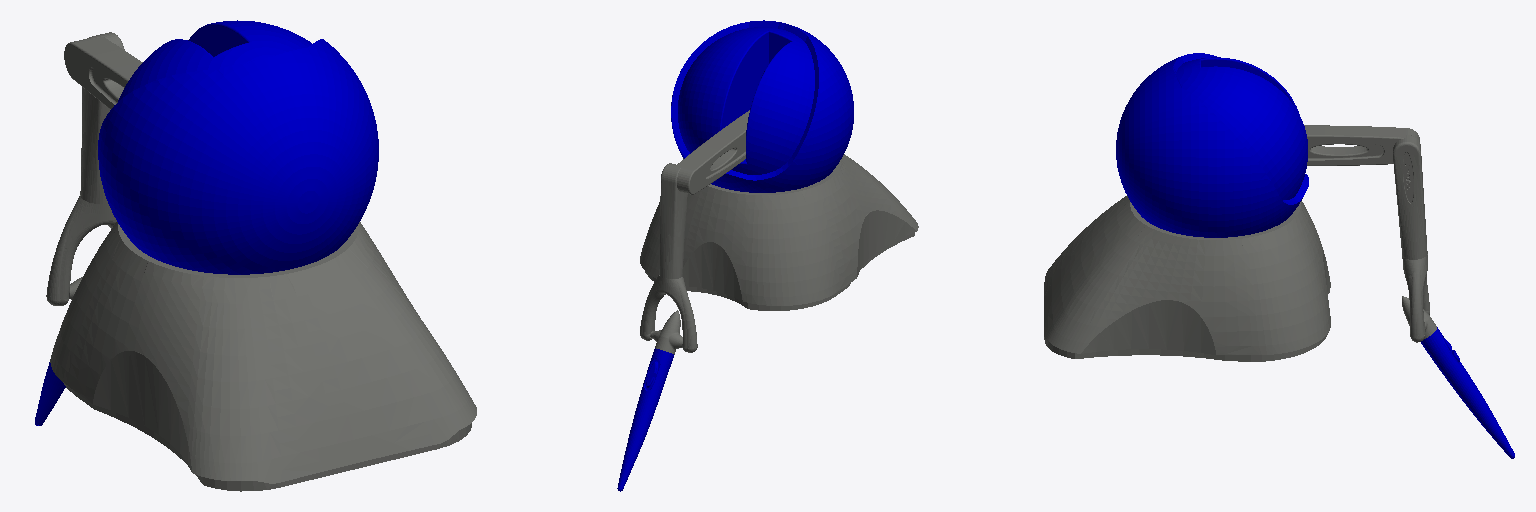
URDF robot description (phantom_omni):
<?xml version="1.0" encoding="utf-8"?>
<robot name="phantom_omni" xmlns:xacro="http://www.ros.org/wiki/xacro">
	
	<!-- Materials -->
	<material name="metal_seamed">
		<color rgba="0.4627450980392157 0.4666666666666667 0.4509803921568628 1.0" />
	</material>
	<material name="blue">
		<color rgba="0.0 0.0 0.8 1.0" />
	</material>
	<material name="white">
		<color rgba="1.0 1.0 1.0 1.0" />
	</material>
	
	<!-- Links -->
  <link name="base" >
    <visual>
			<origin xyz="0 -0.02 0" />
      <geometry>
				<mesh filename="package://omni_description/meshes/base.stl" />
      </geometry>
      <material name="metal_seamed"/>
    </visual>
  </link>
  <link name="torso" >
    <visual>
			<origin xyz="0 0 0.036" rpy="-1.5707 0 0"/>
      <geometry>
				<mesh filename="package://omni_description/meshes/torso.stl" />
      </geometry>
      <material name="blue"/>
    </visual>
  </link>
  <link name="upper_arm" >
		<visual>
			<origin xyz="0.0075 0 0" rpy="0 0 0"/>
      <geometry>
				<mesh filename="package://omni_description/meshes/upper_arm.stl" />
      </geometry>
      <material name="metal_seamed" />
    </visual>
  </link>
  <link name="lower_arm" >
		<visual>
			<origin xyz="0 0 0" rpy="1.5707 0 0"/>
      <geometry>
				<mesh filename="package://omni_description/meshes/lower_arm.stl" />
      </geometry>
      <material name="metal_seamed" />
    </visual>
  </link>
  <link name="wrist" >
		<visual>
			<origin xyz="0 0 0" rpy="3.14159 0 0"/>
      <geometry>
				<mesh filename="package://omni_description/meshes/wrist.stl" />
      </geometry>
      <material name="metal_seamed" />
    </visual>
  </link>
  <link name="tip" >
		<visual>
			<origin xyz="0 0 0" rpy="-1.5707 0 0"/>
      <geometry>
				<mesh filename="package://omni_description/meshes/tip.stl" />
      </geometry>
      <material name="metal_seamed" />
    </visual>
  </link>
  <link name="stylus" >
    <visual>
			<origin xyz="0 -0.033 0" rpy="1.5707 1.5707 0"/>
      <geometry>
				<mesh filename="package://omni_description/meshes/pen.stl" />
      </geometry>
      <material name="blue" />
    </visual>
  </link>
  
	<!-- joints -->
  <joint name="waist" type="revolute" >
    <parent link="base" />
    <child link="torso" />
    <origin xyz="0 0 0.09" rpy="0 0 0" />
    <axis xyz="0 0 1" />
    <limit lower="-0.98" upper="0.98" velocity="100" effort="5" />
  </joint>
  <joint name="shoulder" type="revolute" >
    <parent link="torso" />
    <child link="upper_arm" />
    <origin xyz="-0.0075 0 0.035" rpy="0 0 0" />
    <axis xyz="1 0 0" />
    <limit lower="0" upper="1.75" velocity="100" effort="5" />
  </joint>
  <joint name="elbow" type="revolute" >
    <parent link="upper_arm" />
    <child link="lower_arm" />
    <origin xyz="0.0075 .134 0" rpy="-1.5 0 0" />
    <axis xyz="1 0 0" />
		<!-- upper="1.25" -->
    <limit lower="-0.81" upper="1.25" velocity="100" effort="5" /> 
  </joint>
  <joint name="yaw" type="revolute" >
    <parent link="lower_arm" />
    <child link="wrist" />
    <origin xyz="0 0.08 0" />
    <axis xyz="0 1 0" />
    <limit lower="3.92" upper="8.83" velocity="100" effort="5" />
  </joint>
  <joint name="pitch" type="revolute" >
    <parent link="wrist" />
    <child link="tip" />
    <origin xyz="0 0.0525 0" rpy="0.5 0 0" />
    <axis xyz="1 0 0" />
    <limit lower="-0.5" upper="1.75" velocity="100" effort="5" />
  </joint>
  <joint name="roll" type="revolute" >
    <parent link="tip" />
    <child link="stylus" />
    <origin xyz="0 -0.023 0" rpy="3.14159 3.14159 0" />
    <axis xyz="0 1 0" />
    <limit lower="-2.58" upper="2.58" velocity="100" effort="5" />
  </joint>
</robot>

--- Render facts (derived) ---
Views: 3 orthographic renders of the robot side by side, from view 1: azimuth 30°, elevation 25°; view 2: azimuth 150°, elevation 25°; view 3: azimuth 270°, elevation 25°.
Model phantom_omni with 7 links and 6 joints (6 revolute), rooted at base, posed all joints at 0 but 1 set to mid-range because 0 is outside their limits (yaw = 6.38).
Visible links, largest first — view 1: base, torso, upper_arm, wrist, lower_arm, stylus; view 2: base, torso, upper_arm, lower_arm, stylus, wrist, tip; view 3: base, torso, upper_arm, lower_arm, stylus, wrist.
Boxes of the visible links, box(x1,y1,x2,y2) form: base: box(50, 222, 476, 491); torso: box(98, 20, 378, 274); upper_arm: box(64, 37, 142, 109); wrist: box(46, 195, 116, 305); lower_arm: box(80, 32, 124, 203); stylus: box(35, 362, 65, 425); base: box(640, 154, 918, 310); torso: box(671, 20, 853, 192); upper_arm: box(676, 110, 749, 194); lower_arm: box(659, 163, 687, 278); stylus: box(617, 348, 673, 491); wrist: box(640, 275, 697, 352); tip: box(650, 310, 682, 354); base: box(1044, 196, 1330, 361); torso: box(1116, 53, 1308, 237); upper_arm: box(1304, 125, 1419, 165); lower_arm: box(1393, 135, 1427, 259); stylus: box(1421, 327, 1514, 458); wrist: box(1402, 254, 1429, 342).
Bounding box of the posed robot: 0.1674 × 0.3303 × 0.3014 m (x, y, z).
Meshes: 7 distinct files referenced, 7 mesh visuals loaded (7 binary STL).